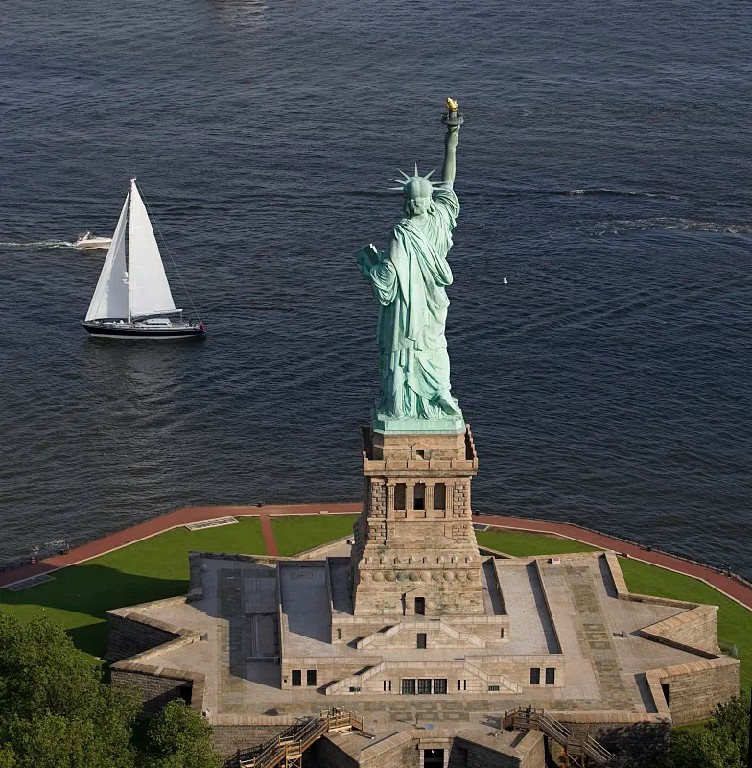SL: (346, 95, 486, 616)
